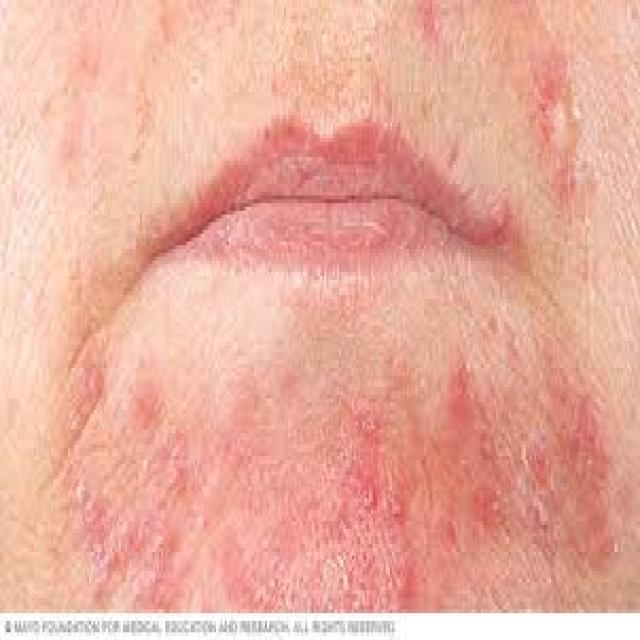Eczema: (348, 375, 630, 561), (57, 388, 225, 597)
